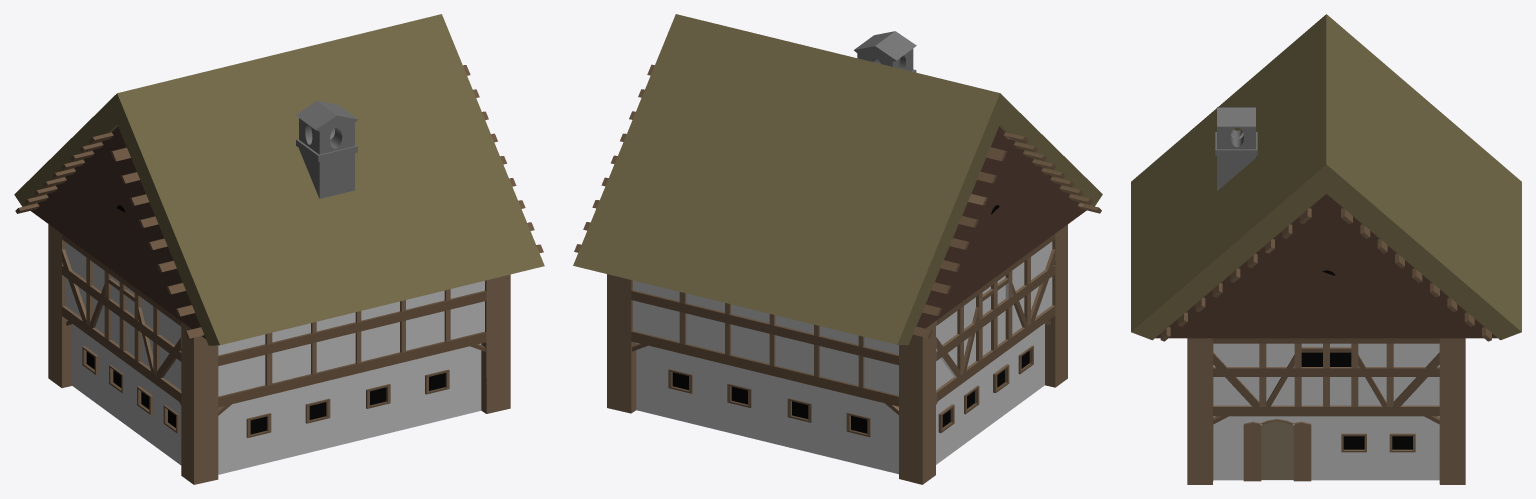
Rendered from HouseColors.fbx.
3 renders of one model, left to right at view 1: azimuth 30°, elevation 25°; view 2: azimuth 150°, elevation 25°; view 3: azimuth 270°, elevation 25°, orthographic. The views are drawn at different scales.
Visible parts, largest first — view 1: House; view 2: House; view 3: House.
Part boxes in pixels (bbox=[...]): House: bbox=[14, 14, 544, 484]; House: bbox=[573, 14, 1102, 484]; House: bbox=[1131, 14, 1521, 484].
Bounding box in the file's own units: 2400 × 2200 × 2416.
